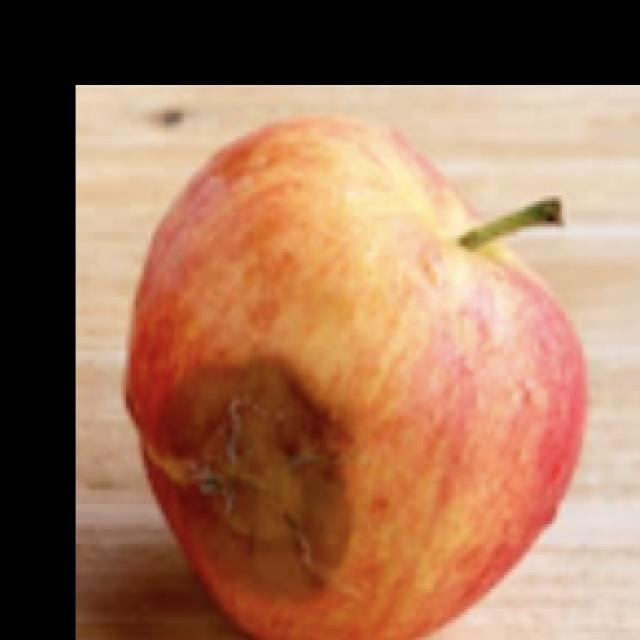Rotten: (110, 120, 565, 640)
